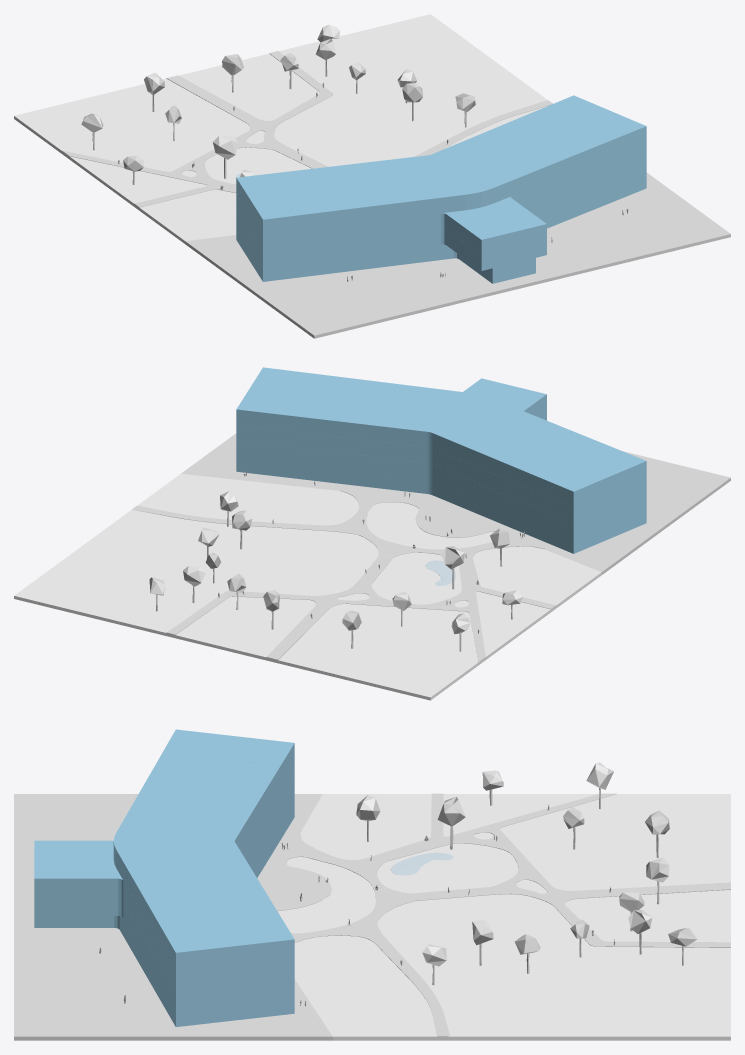
The model's file is campus_11_compressed.glb.
3 views of the same model, one above another, from view 1: azimuth 30°, elevation 25°; view 2: azimuth 150°, elevation 25°; view 3: azimuth 270°, elevation 25° (orthographic). The views are drawn at different scales.
Parts seen in each view (by area): view 1: park, floor_3, building_base, floor_2, floor_1, floor_0, paths_Retopo, trees, corner_room; view 2: park, floor_3, paths_Retopo, building_base, floor_2, floor_1, floor_0, trees, corner_room; view 3: park, floor_3, building_base, paths_Retopo, floor_2, trees, floor_1, floor_0, corner_room, Lake_Retopo_Retopo.
Part boxes in pixels (x1,y1,x2,y2): park: (14, 14, 548, 243); floor_3: (246, 95, 646, 235); building_base: (185, 172, 730, 338); floor_2: (236, 142, 646, 255); floor_1: (236, 157, 646, 270); floor_0: (236, 173, 646, 283); paths_Retopo: (62, 51, 552, 207); trees: (81, 24, 475, 184); corner_room: (236, 172, 291, 208); park: (14, 473, 601, 700); floor_3: (236, 367, 646, 495); paths_Retopo: (132, 490, 555, 662); building_base: (181, 433, 730, 574); floor_2: (236, 378, 646, 522); floor_1: (236, 410, 646, 538); floor_0: (236, 456, 646, 553); trees: (149, 491, 522, 651); corner_room: (541, 466, 601, 507); park: (277, 794, 730, 1040); floor_3: (113, 729, 294, 971); building_base: (14, 794, 332, 1040); paths_Retopo: (266, 793, 730, 1036); floor_2: (34, 762, 294, 989); trees: (356, 762, 697, 985); floor_1: (34, 780, 294, 1008); floor_0: (34, 799, 294, 1026); corner_room: (236, 738, 294, 783); Lake_Retopo_Retopo: (390, 852, 453, 875).
Size of the model in its own units: 2.8 by 0.4199 by 3.5.
